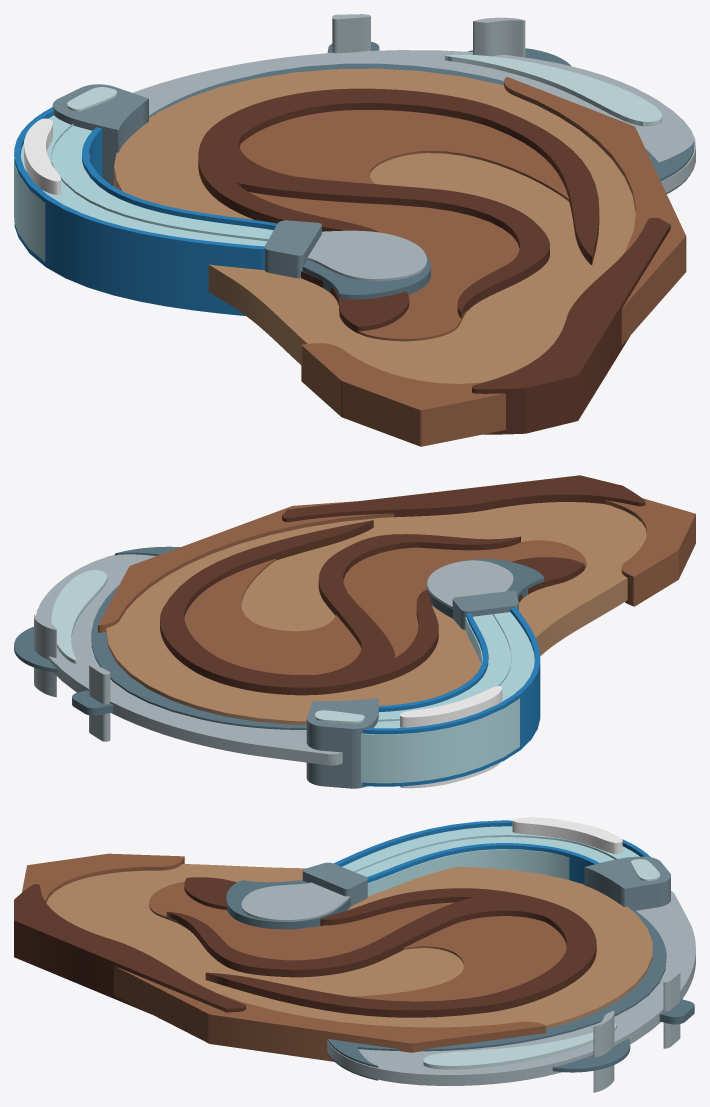
File: emoji_u1f9bb_1f3fd.glb
3 renders of one model, top to bottom at view 1: azimuth 30°, elevation 25°; view 2: azimuth 150°, elevation 25°; view 3: azimuth 270°, elevation 25°, orthographic. The views are drawn at different scales.
Visible parts, largest first — view 1: emoji_u1f9bb_1f3fd; view 2: emoji_u1f9bb_1f3fd; view 3: emoji_u1f9bb_1f3fd.
Part boxes in pixels (x1,y1,x2,y2): emoji_u1f9bb_1f3fd: (14,14,695,446); emoji_u1f9bb_1f3fd: (14,475,695,788); emoji_u1f9bb_1f3fd: (14,817,695,1092).
Size of the model in its own units: 0.0271 by 0.0038 by 0.0336.
